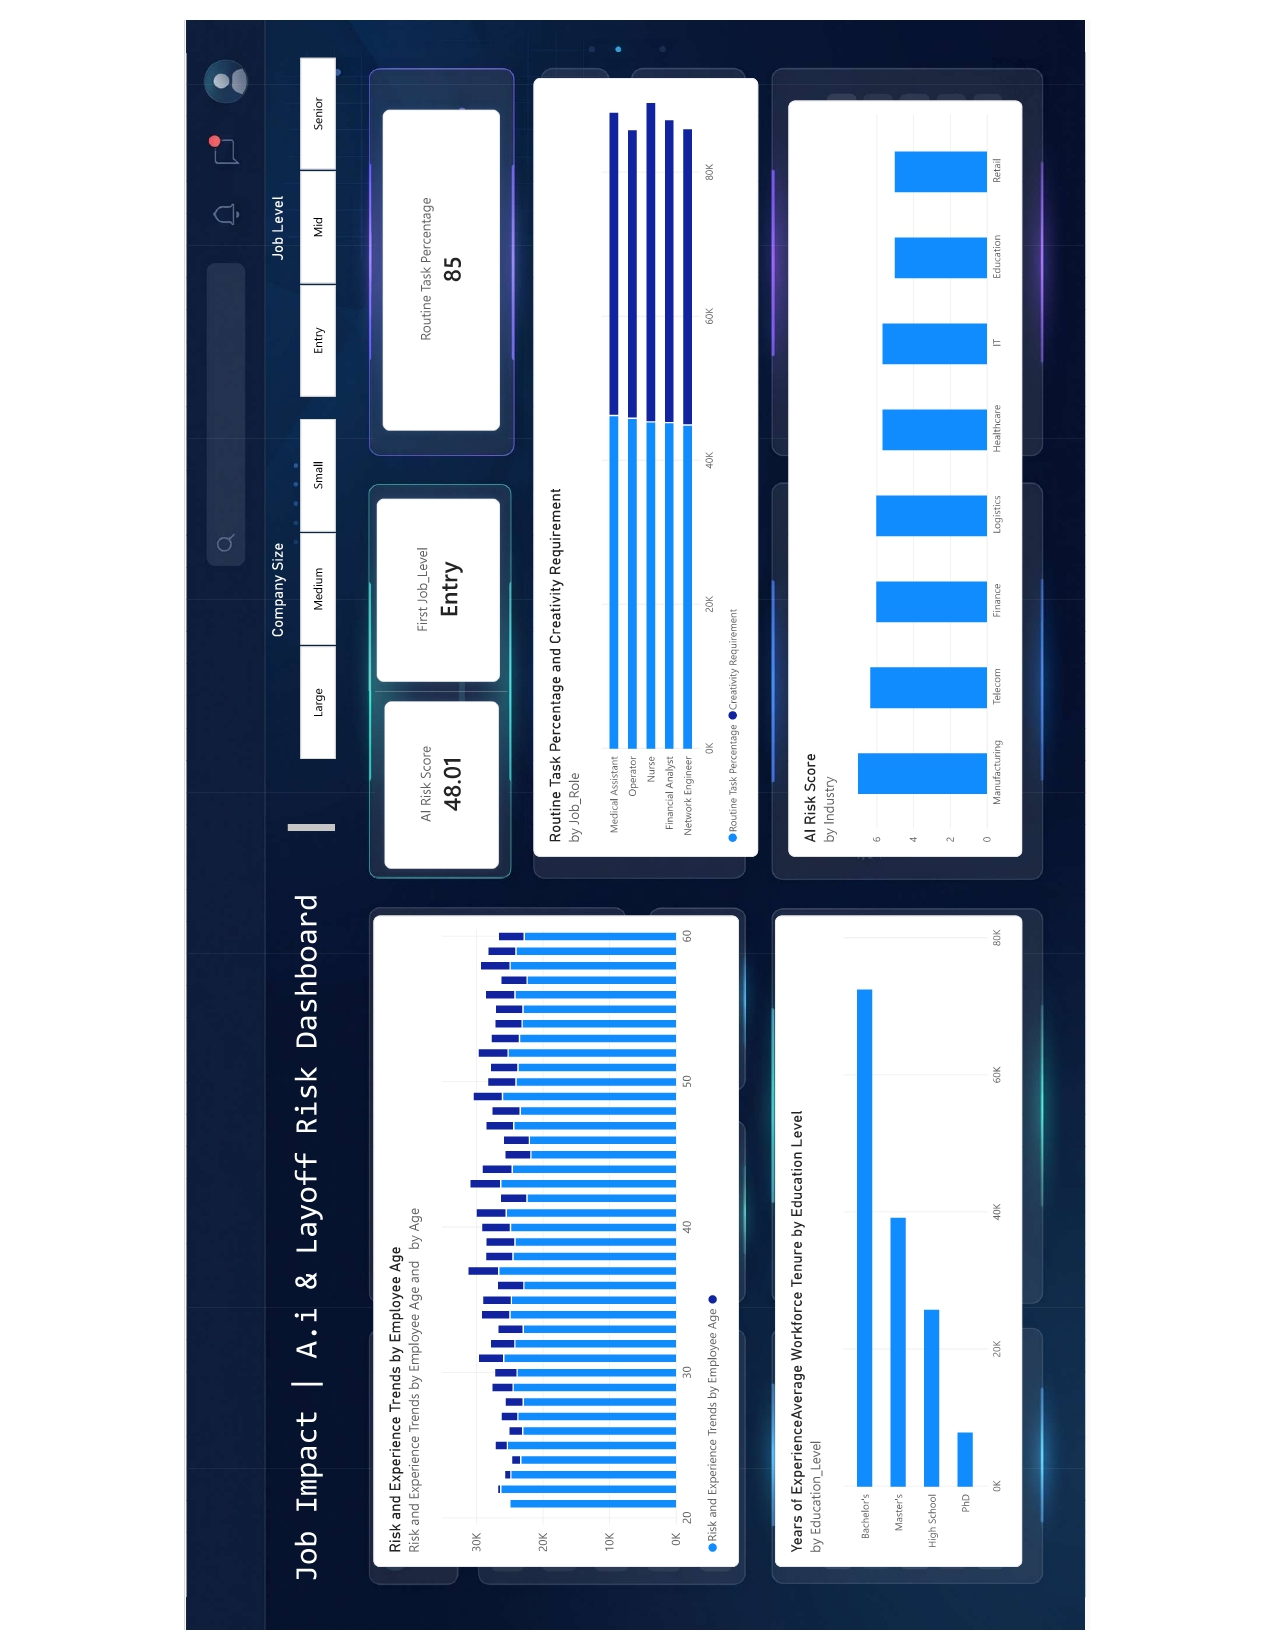

The page's visual inventory and layout, read from the dashboard file:
{"tool":"powerbi","page":{"name":"Pie Chart","canvas":[1920,1080],"ordinal":0},"visuals":[{"type":"textbox","box":[56.8,122.7,904,59.1],"z":0},{"type":"slicer","title":"Company Size","fields":{"Values":["ai-impact-jobs-layoff-risk-data.Company_Size"]},"box":[1008.5,99.9,454.3,81.8],"z":1000},{"type":"slicer","title":"Job Level","fields":{"Values":["ai-impact-jobs-layoff-risk-data.Job_Level"]},"box":[1440,99.9,454.3,81.8],"z":2000},{"type":"lineStackedColumnComboChart","title":"Risk and Experience Trends by Employee Age","fields":{"Category":["ai-impact-jobs-layoff-risk-data.Age"],"Y":["Sum(ai-impact-jobs-layoff-risk-data.AI_Risk_Score)","Sum(ai-impact-jobs-layoff-risk-data.Years_of_Experience)"]},"box":[75,224.9,776.8,436.1],"z":3000},{"type":"barChart","fields":{"Category":["ai-impact-jobs-layoff-risk-data.Education_Level"],"Y":["Sum(ai-impact-jobs-layoff-risk-data.Years_of_Experience)"]},"box":[75,704.1,776.8,295.3],"z":4000},{"type":"cardVisual","title":"Ai Risk Score","fields":{"Data":["Avg(ai-impact-jobs-layoff-risk-data.AI_Risk_Score)"]},"box":[897.2,227.1,222.6,159],"z":5000},{"type":"cardVisual","title":"Ai Risk Score","fields":{"Data":["Min(ai-impact-jobs-layoff-risk-data.Job_Level)"]},"box":[1119.8,218,240.8,168.1],"z":6000},{"type":"cardVisual","title":"Ai Risk Score","fields":{"Data":["Count(ai-impact-jobs-layoff-risk-data.Routine_Task_Percentage)"]},"box":[1419.6,224.9,404.3,161.3],"z":7000},{"type":"barChart","fields":{"Category":["ai-impact-jobs-layoff-risk-data.Job_Role"],"Y":["Sum(ai-impact-jobs-layoff-risk-data.Routine_Task_Percentage)","Sum(ai-impact-jobs-layoff-risk-data.Creativity_Requirement)"]},"box":[922.2,415.6,929,268],"z":8000},{"type":"clusteredColumnChart","fields":{"Category":["ai-impact-jobs-layoff-risk-data.Industry"],"Y":["Min(ai-impact-jobs-layoff-risk-data.AI_Risk_Score)"]},"box":[922.2,720,901.7,279.4],"z":9000}]}

Visuals, with their boxes on the page's 1920x1080 design canvas (x1, y1, x2, y2). These are canvas units, not pixel positions in the 1275x1650 screenshot, which may show the page scaled, cropped or inside an application window:
textbox: [left=57, top=123, right=961, bottom=182]
"Company Size" slicer: [left=1008, top=100, right=1463, bottom=182]
"Job Level" slicer: [left=1440, top=100, right=1894, bottom=182]
"Risk and Experience Trends by Employee Age" lineStackedColumnComboChart: [left=75, top=225, right=852, bottom=661]
barChart - ai-impact-jobs-layoff-risk-data.Education_Level x Sum(ai-impact-jobs-layoff-risk-data.Years_of_Experience): [left=75, top=704, right=852, bottom=999]
"Ai Risk Score" cardVisual: [left=897, top=227, right=1120, bottom=386]
"Ai Risk Score" cardVisual: [left=1120, top=218, right=1361, bottom=386]
"Ai Risk Score" cardVisual: [left=1420, top=225, right=1824, bottom=386]
barChart - ai-impact-jobs-layoff-risk-data.Job_Role x Sum(ai-impact-jobs-layoff-risk-data.Routine_Task_Percentage): [left=922, top=416, right=1851, bottom=684]
clusteredColumnChart - ai-impact-jobs-layoff-risk-data.Industry x Min(ai-impact-jobs-layoff-risk-data.AI_Risk_Score): [left=922, top=720, right=1824, bottom=999]
